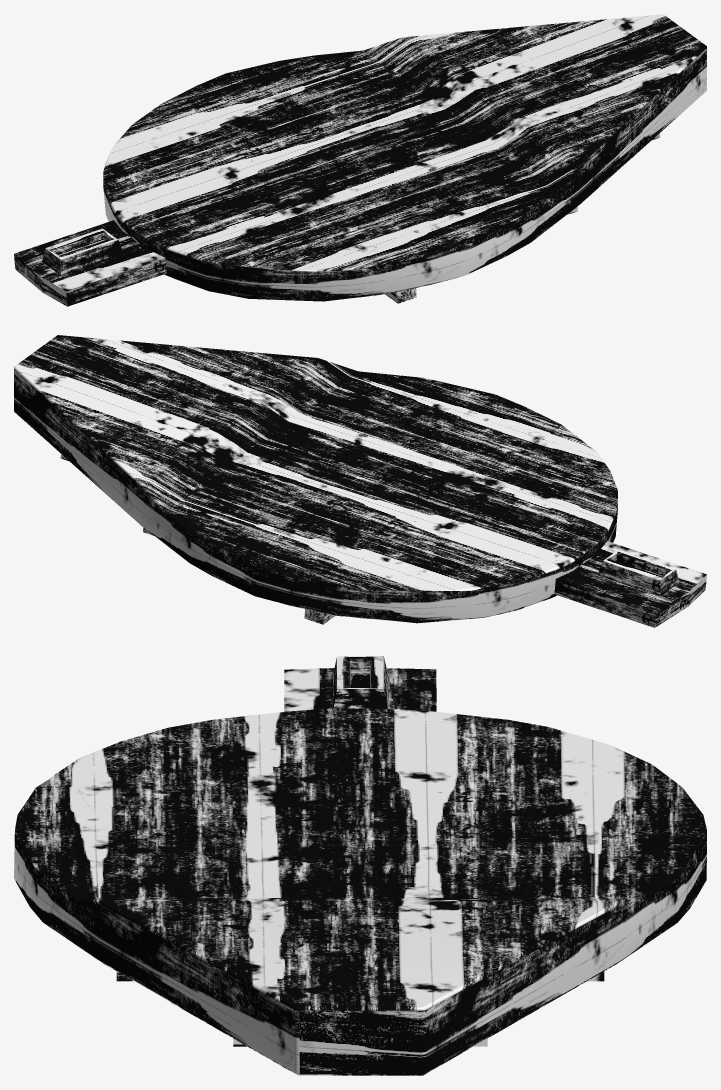
The model's file is SM_water_wheel_part_06.fbx.
3 renders of one model, top to bottom at view 1: azimuth 30°, elevation 25°; view 2: azimuth 150°, elevation 25°; view 3: azimuth 270°, elevation 25°, orthographic. The views are drawn at different scales.
Visible parts, largest first — view 1: SM_water_wheel_part_06_LOD0; view 2: SM_water_wheel_part_06_LOD0; view 3: SM_water_wheel_part_06_LOD0.
Part boxes in pixels (x1,y1,x2,y2): SM_water_wheel_part_06_LOD0: [14, 14, 706, 306]; SM_water_wheel_part_06_LOD0: [14, 335, 706, 627]; SM_water_wheel_part_06_LOD0: [14, 656, 706, 1075].
Bounding box in the file's own units: 324 × 203 × 49.24.
3 materials, 3 textured.
